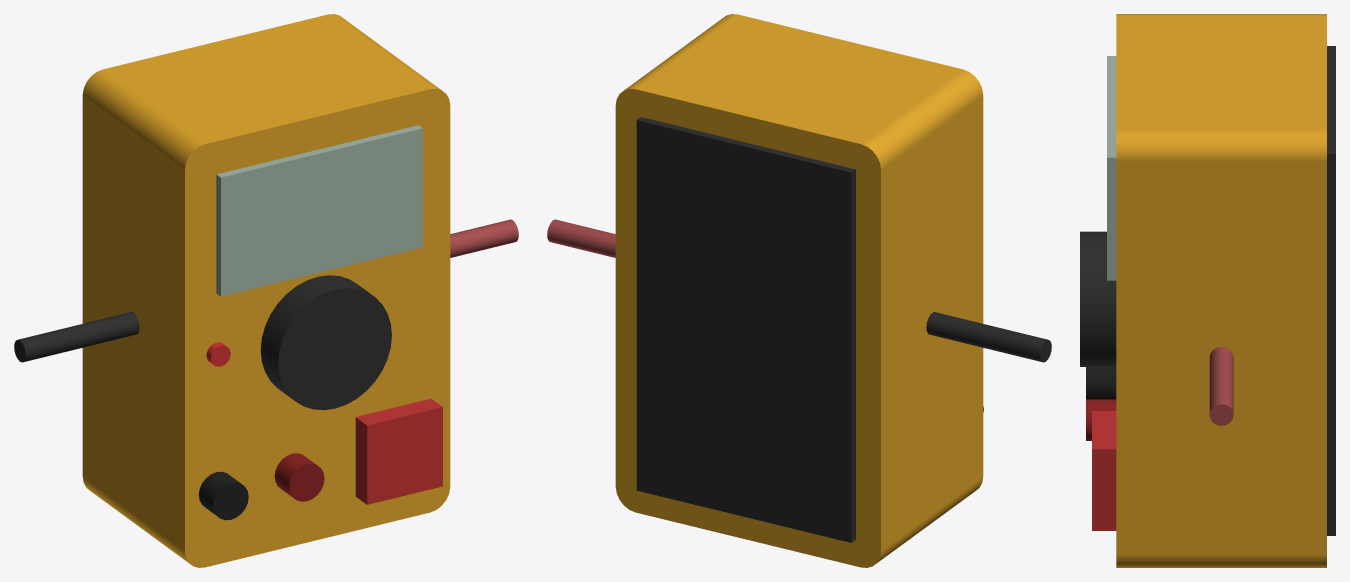
Rendered from insulation_tester.glb.
3 renders of one model, left to right at view 1: azimuth 30°, elevation 25°; view 2: azimuth 150°, elevation 25°; view 3: azimuth 270°, elevation 25°, orthographic. The views are drawn at different scales.
Visible parts, largest first — view 1: body, lcd_display, range_selector, test_button, black_clip, line_terminal, earth_terminal, red_probe; view 2: body, rubber_holster, black_clip, red_probe; view 3: body, range_selector, rubber_holster, test_button, lcd_display, red_probe, earth_terminal, line_terminal.
Part boxes in pixels (x1,y1,x2,y2): body: [82, 14, 450, 567]; lcd_display: [216, 125, 422, 296]; range_selector: [260, 275, 391, 410]; test_button: [355, 398, 442, 504]; black_clip: [14, 312, 139, 362]; line_terminal: [274, 453, 324, 501]; earth_terminal: [198, 471, 248, 520]; red_probe: [450, 219, 518, 257]; body: [615, 14, 983, 567]; rubber_holster: [636, 117, 855, 542]; black_clip: [926, 312, 1051, 362]; red_probe: [547, 219, 615, 257]; body: [1116, 14, 1326, 567]; range_selector: [1080, 231, 1116, 366]; rubber_holster: [1327, 46, 1335, 535]; test_button: [1092, 411, 1116, 530]; lcd_display: [1107, 56, 1116, 280]; red_probe: [1209, 347, 1233, 425]; earth_terminal: [1086, 367, 1116, 399]; line_terminal: [1086, 399, 1116, 440].
Bounding box in the file's own units: 0.195 × 0.16 × 0.085.
